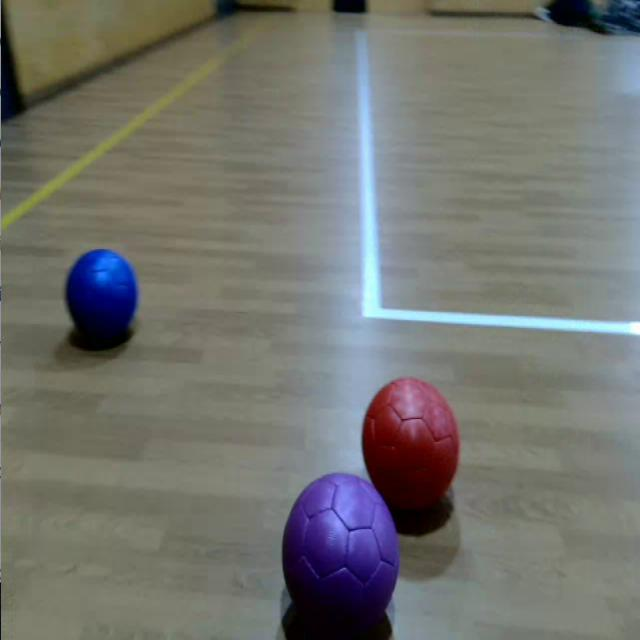blue_ball: (66, 246, 138, 344)
purple_ball: (281, 472, 399, 626)
red_ball: (364, 376, 461, 502)
